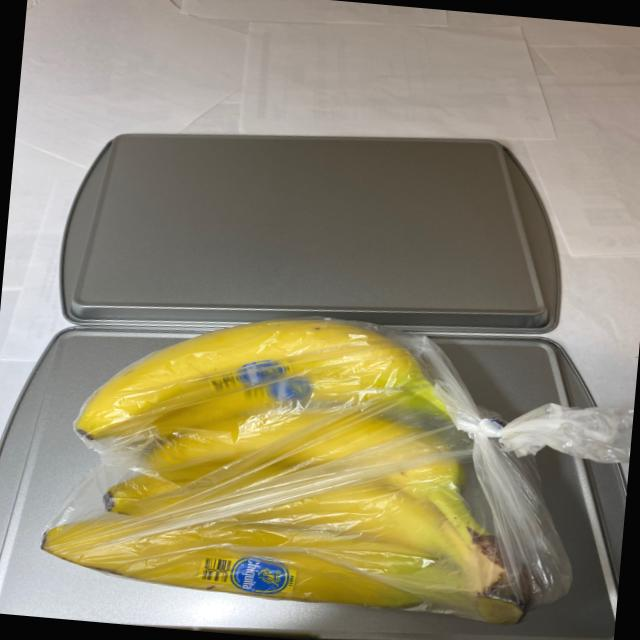banana: (34, 292, 590, 637)
